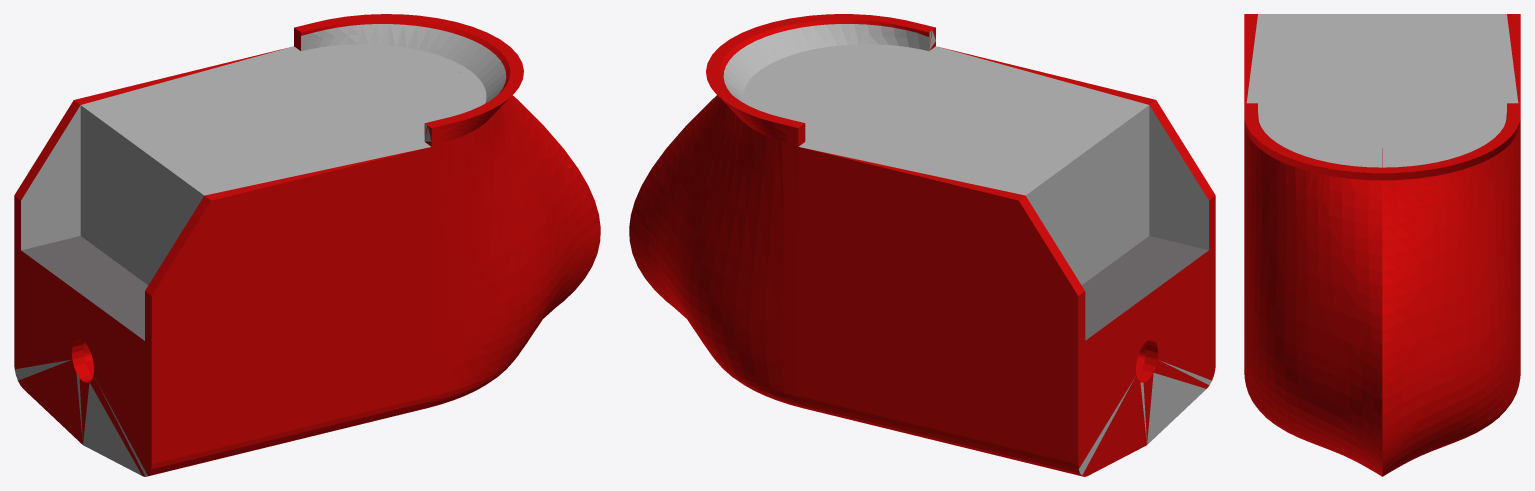
The model's file is bowX.dae.
The picture shows the model from 3 angles, left to right: view 1: azimuth 30°, elevation 25°; view 2: azimuth 150°, elevation 25°; view 3: azimuth 270°, elevation 25°; orthographic projection.
Parts seen in each view (by area): view 1: Bow_X; view 2: Bow_X; view 3: Bow_X.
Boxes of the visible parts, left/top/right/bottom form: Bow_X: left=14, top=14, right=600, bottom=476; Bow_X: left=629, top=14, right=1215, bottom=476; Bow_X: left=1244, top=14, right=1520, bottom=476.
Size of the model in its own units: 86.98 by 40 by 48.
